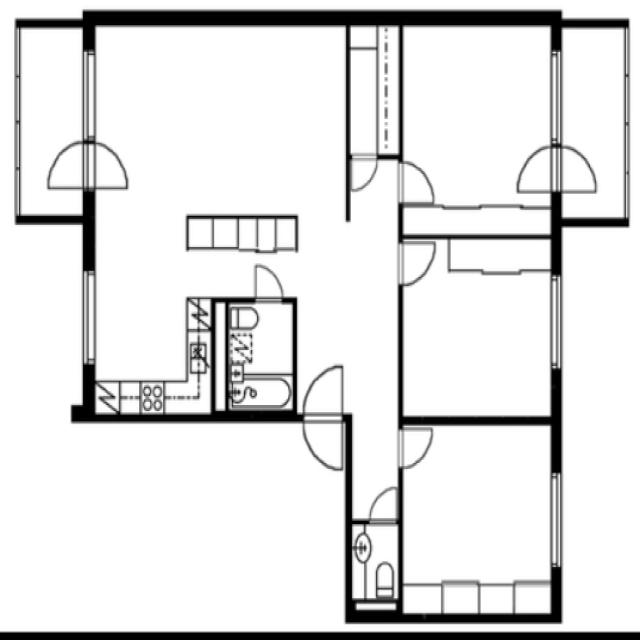door: (298, 360, 350, 474), (351, 509, 401, 613), (528, 141, 606, 197), (64, 134, 132, 192), (510, 138, 561, 198), (44, 137, 94, 198), (395, 235, 440, 288), (397, 156, 442, 206), (394, 420, 438, 471), (247, 259, 288, 308), (363, 482, 403, 528), (347, 151, 381, 192)
window: (613, 17, 639, 211), (4, 22, 28, 208), (74, 43, 102, 147), (544, 42, 570, 149), (77, 262, 101, 372), (545, 464, 568, 574), (546, 271, 568, 377)
zone: (80, 23, 351, 251), (88, 101, 205, 415), (400, 418, 560, 622), (398, 18, 560, 214), (399, 253, 557, 422), (186, 212, 299, 300), (224, 298, 296, 415), (348, 21, 403, 159), (351, 522, 400, 614)
